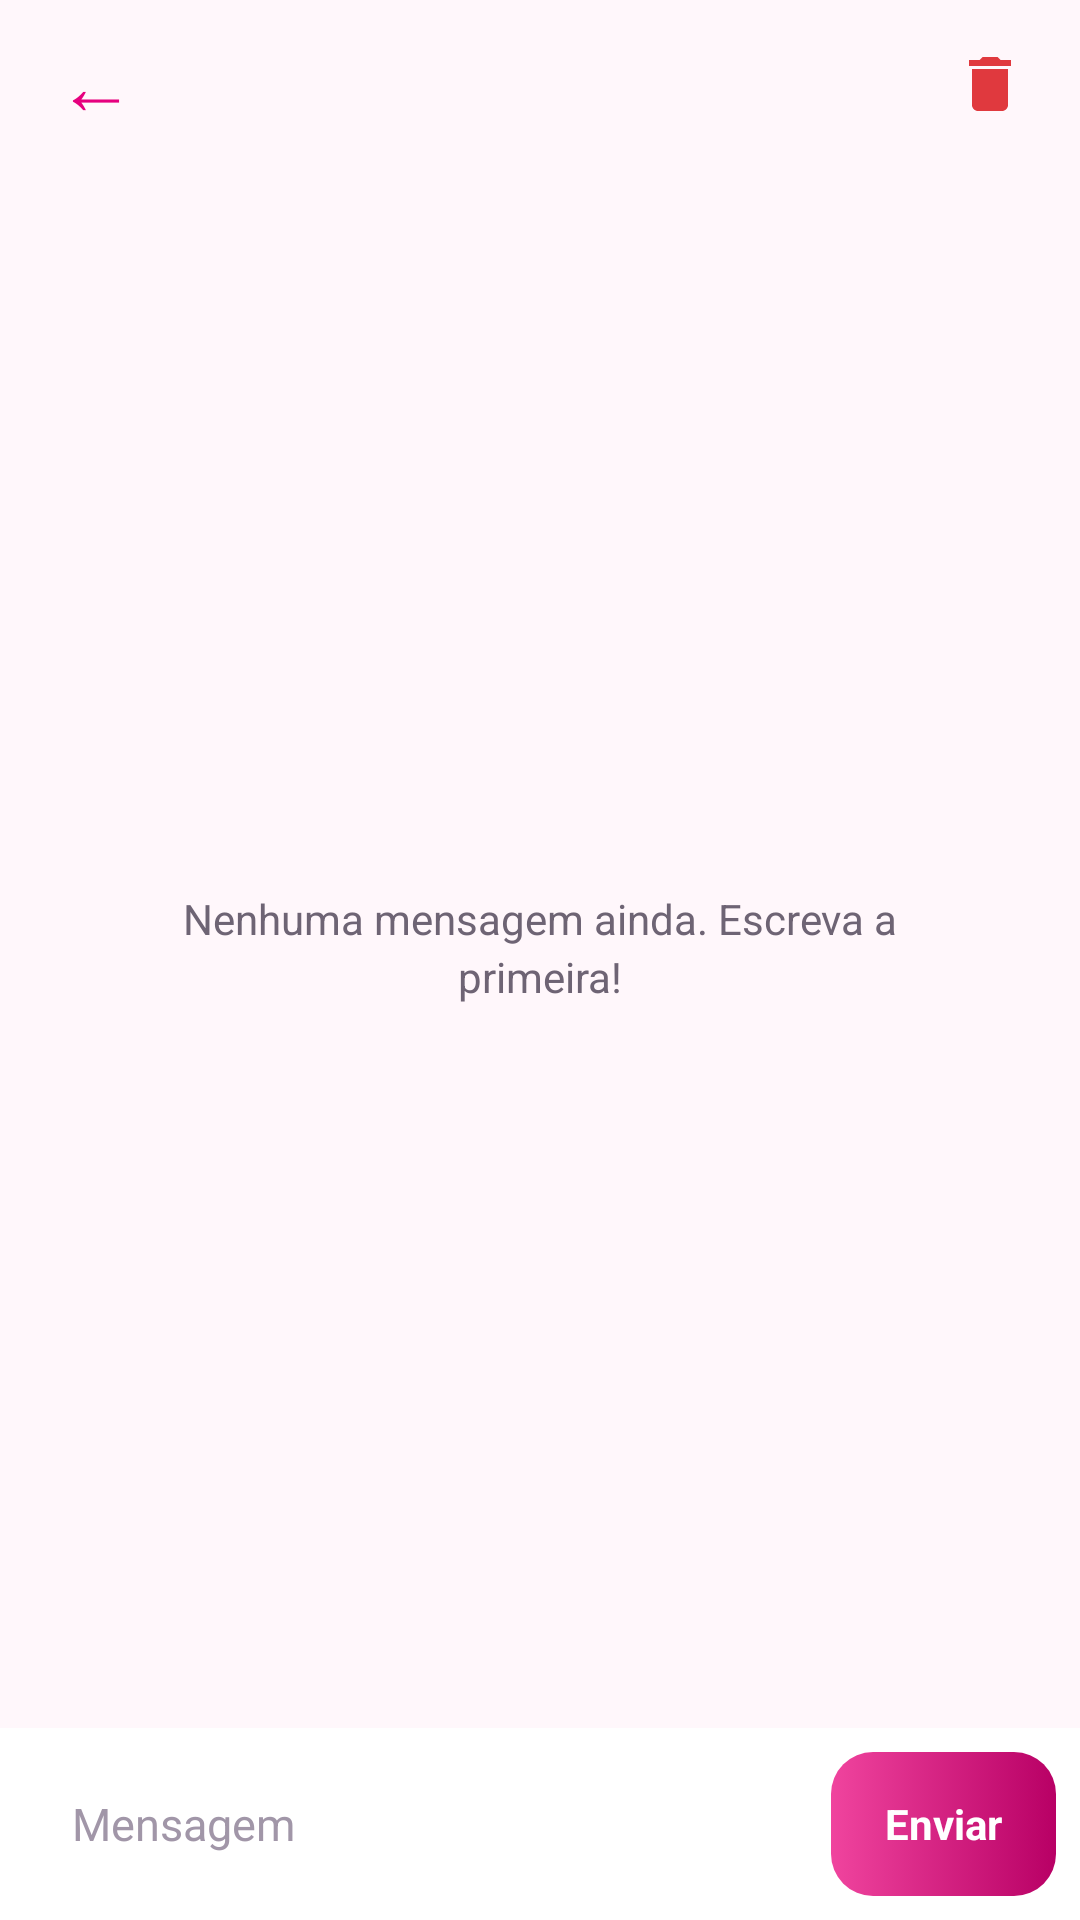

Icon click points for this 1080x1920 phone screenshot, format point (x, y):
Apagar conversa: point (990, 84)
